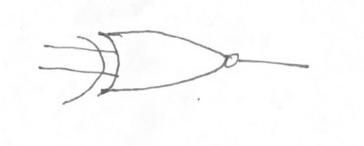XNOR: (67, 21, 246, 117)
